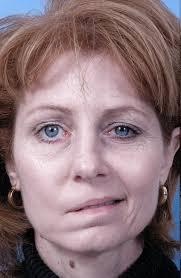strokeEyeMid: (20, 102, 151, 152)
strokeMouthMid: (57, 189, 130, 220)
